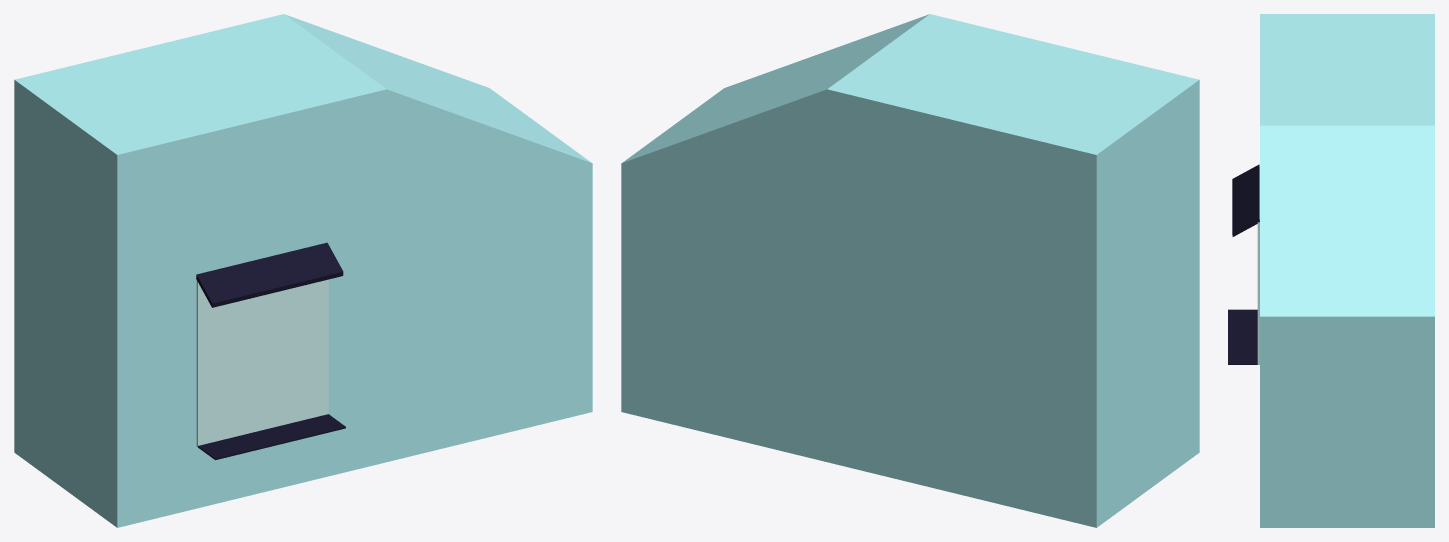
3 renders of one model, left to right at view 1: azimuth 30°, elevation 25°; view 2: azimuth 150°, elevation 25°; view 3: azimuth 270°, elevation 25°, orthographic. The views are drawn at different scales.
Parts seen in each view (by area): view 1: Mesh_0.009; view 2: Mesh_0.009; view 3: Mesh_0.009.
Part boxes in pixels (<box>): Mesh_0.009: <box>14,14,592,527</box>; Mesh_0.009: <box>621,14,1199,527</box>; Mesh_0.009: <box>1228,14,1434,527</box>.
Bounding box in the file's own units: 4 × 3 × 1.77.
